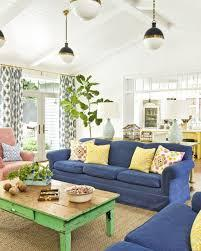chair: (181, 131, 200, 157), (153, 130, 173, 144), (139, 131, 155, 144)
door: (20, 93, 42, 160), (40, 96, 63, 156)
light: (142, 0, 167, 54), (58, 7, 78, 68), (95, 100, 118, 139), (68, 0, 106, 20), (142, 68, 157, 111), (165, 66, 178, 106), (0, 22, 8, 52)
sofa: (51, 135, 189, 205), (100, 190, 201, 251), (0, 127, 35, 176)
table: (0, 175, 118, 251), (152, 139, 198, 184)
